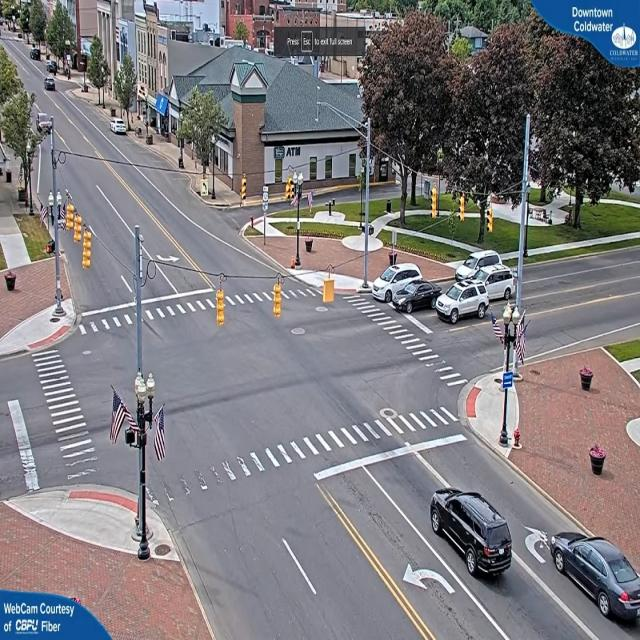car: (551, 532, 640, 628), (431, 487, 512, 580), (369, 259, 425, 300), (436, 282, 489, 322), (391, 282, 442, 309), (455, 251, 509, 275)
